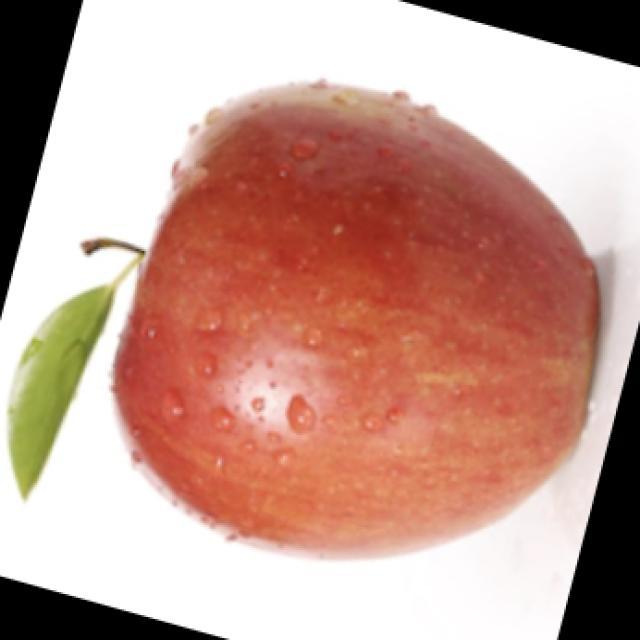Apple: (108, 80, 598, 557)
